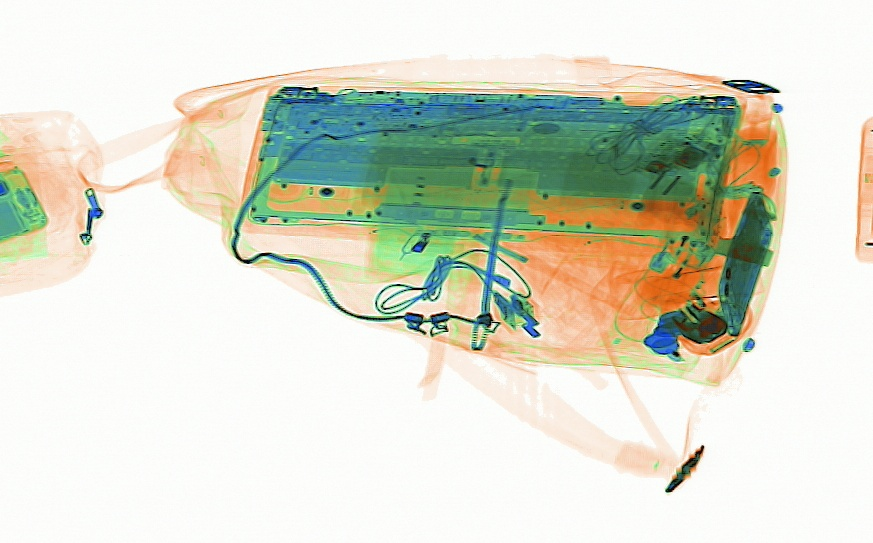lighter: (639, 234, 720, 339), (645, 187, 717, 276)
